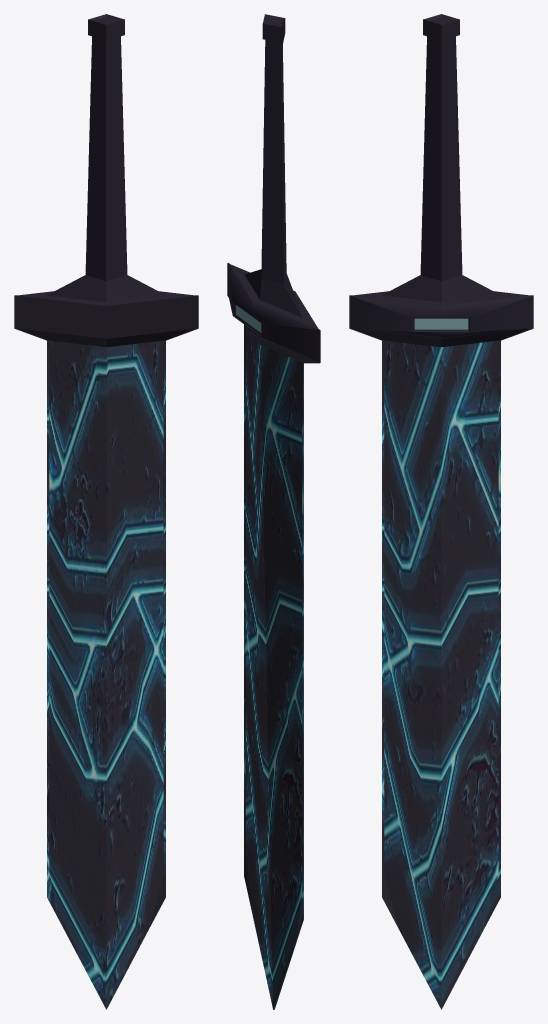
Rendered from Sword.fbx.
The picture shows the model from 3 angles, left to right: view 1: azimuth 90°, elevation 25°; view 2: azimuth 210°, elevation 25°; view 3: azimuth 270°, elevation 25°; orthographic projection.
Parts seen in each view (by area): view 1: Cube; view 2: Cube; view 3: Cube.
Part boxes in pixels (<box>): Cube: <box>14,14,198,1009</box>; Cube: <box>227,14,320,1009</box>; Cube: <box>349,14,533,1009</box>.
Bounding box in the file's own units: 1.02 × 19.93 × 3.36.
Materials: 3 (1 with a texture image).
